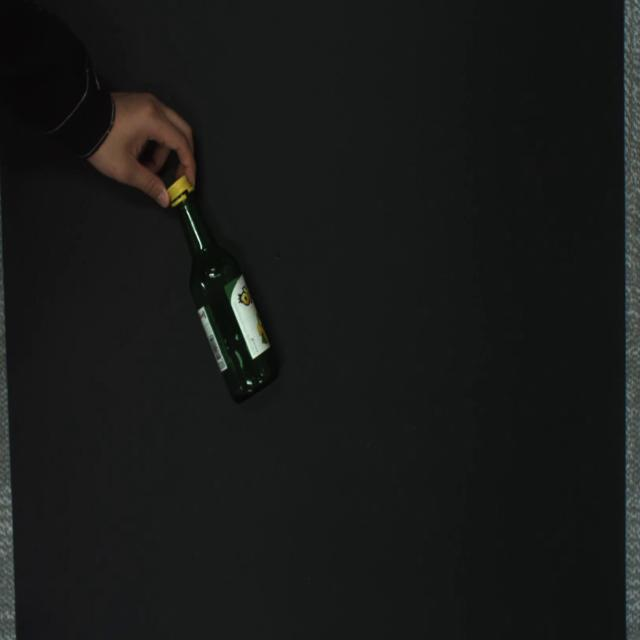soju-bottle: (167, 174, 278, 400)
